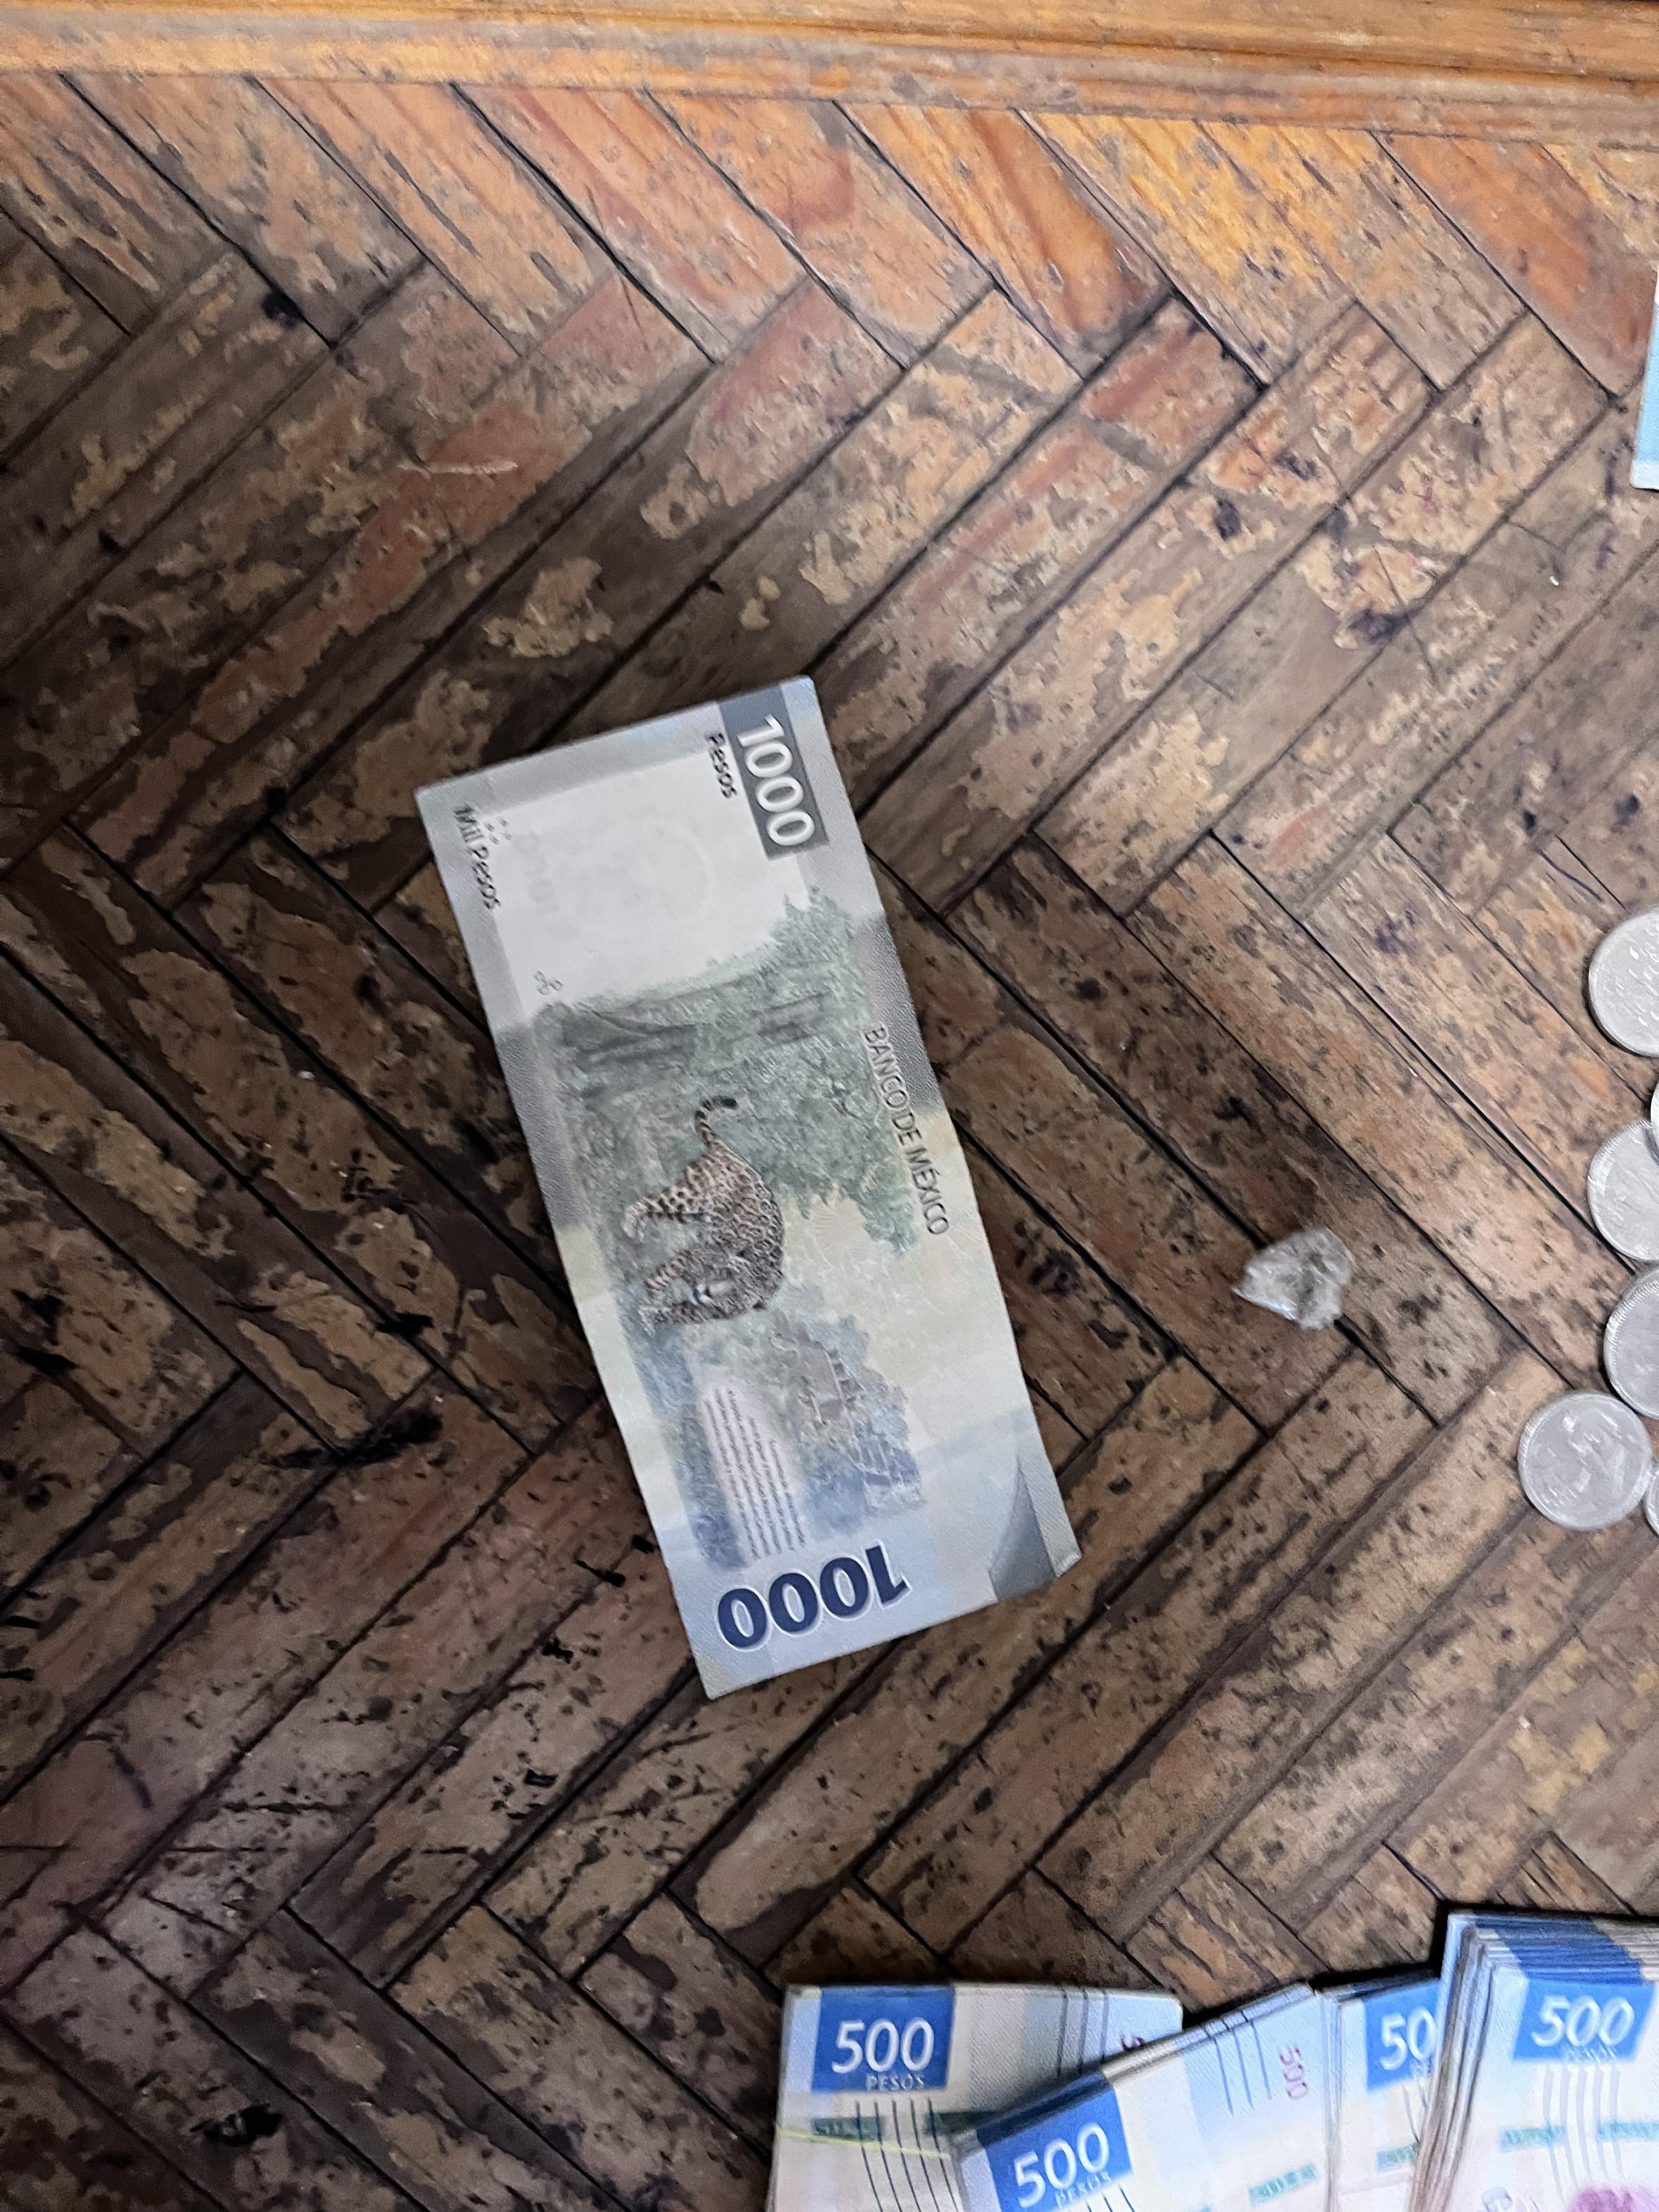1000: (416, 660, 1121, 1719)
500 nuevo: (774, 1979, 1188, 2212), (955, 1980, 1340, 2212), (1439, 1937, 1659, 2212), (1335, 1963, 1457, 2212)
